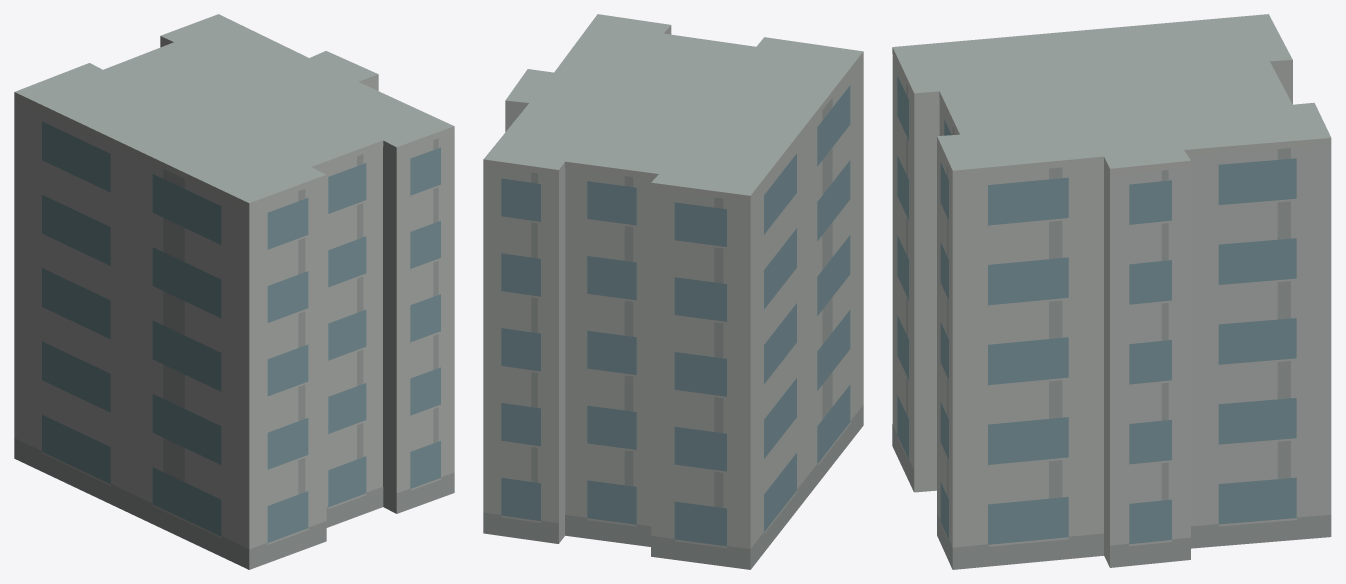
Rendered from survey-upis-32569022.glb.
The picture shows the model from 3 angles, left to right: view 1: azimuth 30°, elevation 25°; view 2: azimuth 150°, elevation 25°; view 3: azimuth 270°, elevation 25°; orthographic projection. The views are drawn at different scales.
Parts seen in each view (by area): view 1: survey-upis-32569022.tmp; view 2: survey-upis-32569022.tmp; view 3: survey-upis-32569022.tmp.
Boxes of the visible parts, left/top/right/bottom form: survey-upis-32569022.tmp: left=14, top=14, right=454, bottom=569; survey-upis-32569022.tmp: left=483, top=14, right=863, bottom=569; survey-upis-32569022.tmp: left=892, top=14, right=1331, bottom=569.
Bounding box in the file's own units: 11.97 × 14.2 × 14.16.
